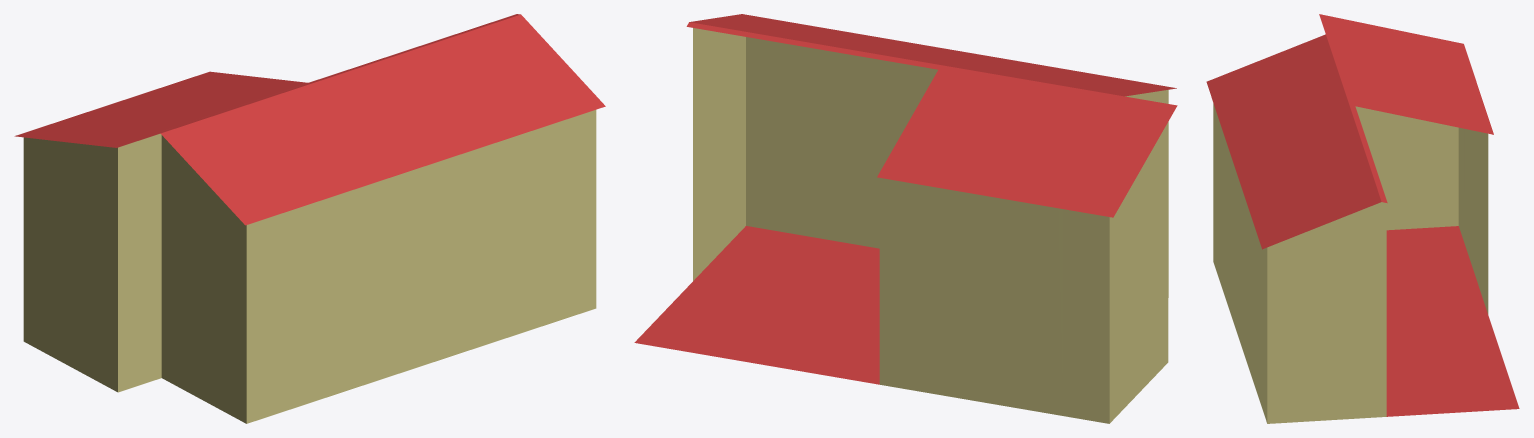
The picture shows the model from 3 angles, left to right: view 1: azimuth 30°, elevation 25°; view 2: azimuth 150°, elevation 25°; view 3: azimuth 270°, elevation 25°; orthographic projection. The views are drawn at different scales.
Bounding box in the file's own units: 19.91 × 12.94 × 9.92.
